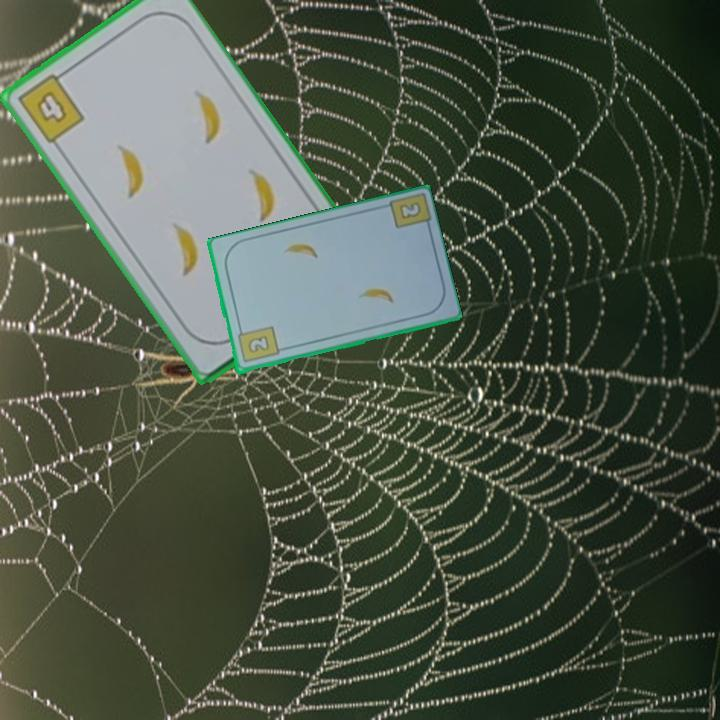2b: (234, 323, 281, 366), (395, 198, 424, 222)
4b: (13, 67, 88, 147)
